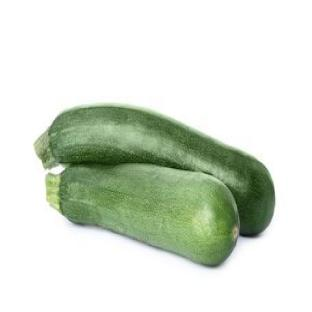Zucchini: (35, 106, 275, 235), (46, 165, 239, 265)
